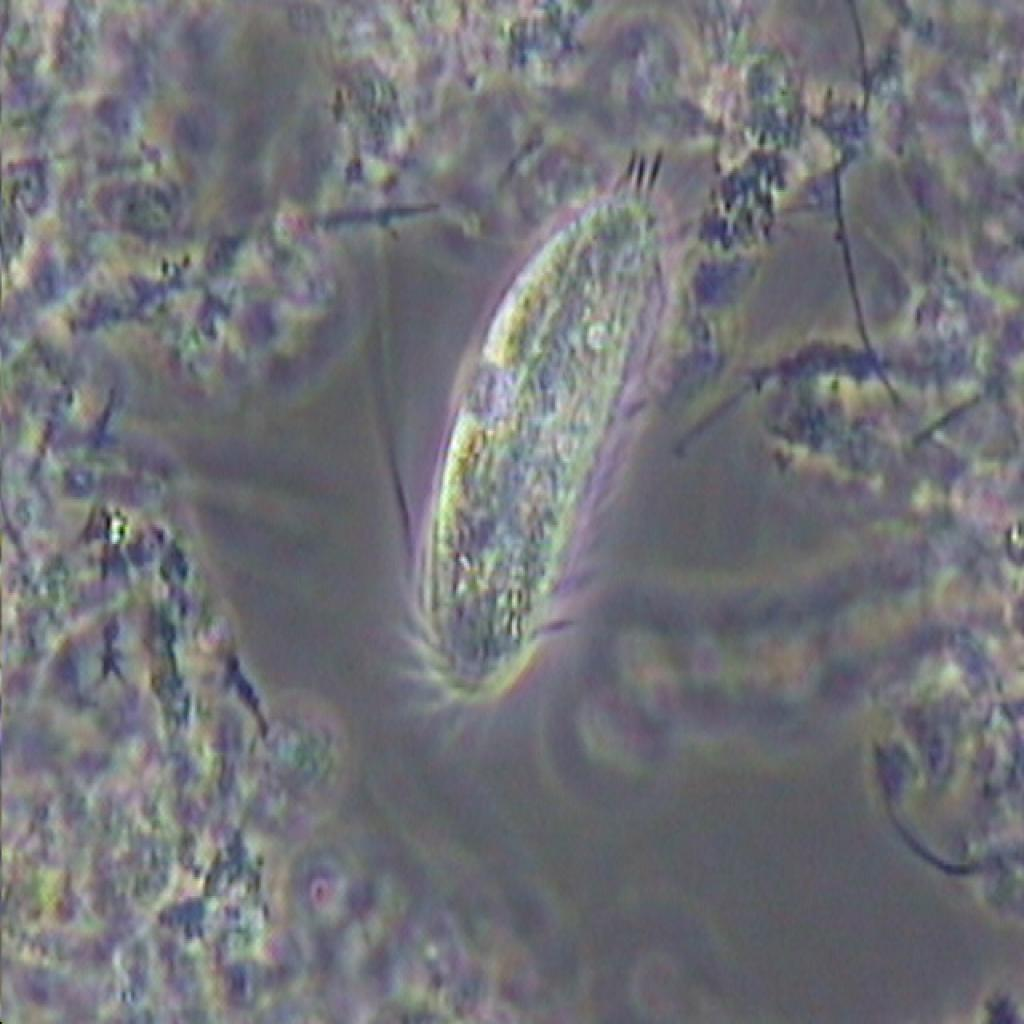Stylonychia: (373, 154, 678, 746)
